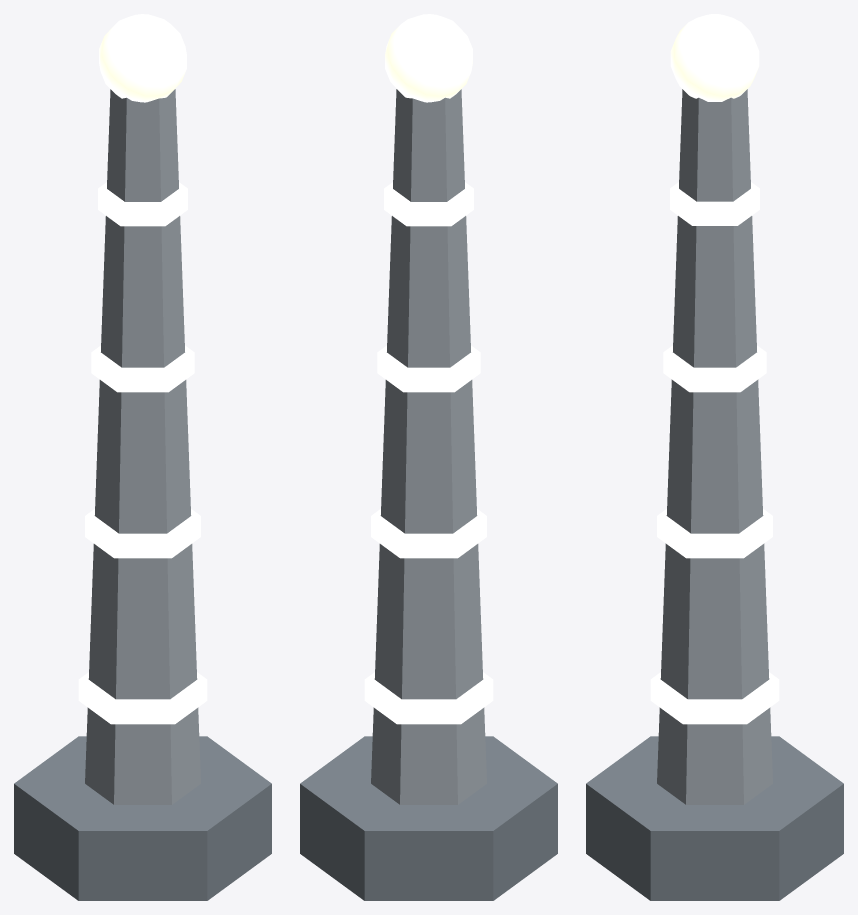
Rendered from fortress__pylon.fbx.
3 renders of one model, left to right at view 1: azimuth 30°, elevation 25°; view 2: azimuth 150°, elevation 25°; view 3: azimuth 270°, elevation 25°, orthographic.
Parts seen in each view (by area): view 1: fortress__pylon; view 2: fortress__pylon; view 3: fortress__pylon.
Boxes of the visible parts, x1,y1,x2,y2 form: fortress__pylon: [14, 14, 271, 900]; fortress__pylon: [300, 14, 557, 900]; fortress__pylon: [586, 14, 843, 900].
Size of the model in its own units: 1.73 by 7.15 by 2.
